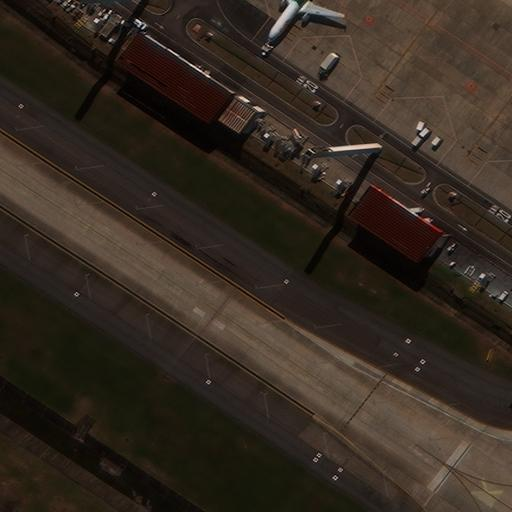Medium Civil Transport: (266, 0, 344, 41)
